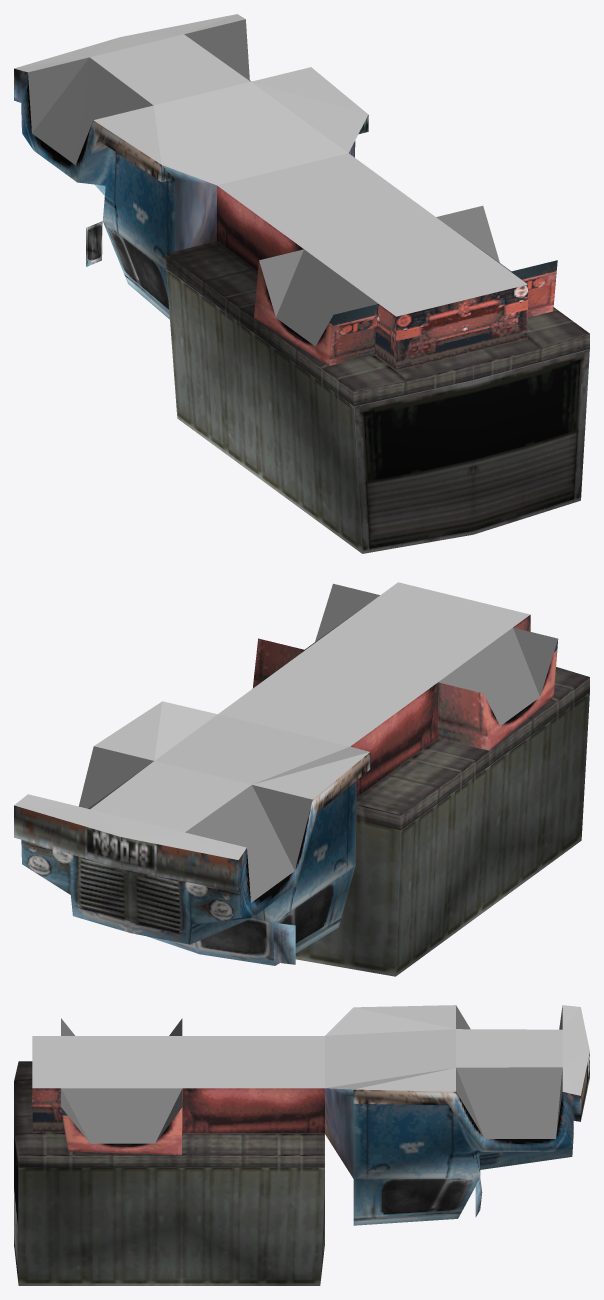
Rendered from HAVANA_model9_clean.obj.
3 renders of one model, top to bottom at view 1: azimuth 30°, elevation 25°; view 2: azimuth 150°, elevation 25°; view 3: azimuth 270°, elevation 25°, orthographic. The views are drawn at different scales.
Parts seen in each view (by area): view 1: HAVANA_model9_clean; view 2: HAVANA_model9_clean; view 3: HAVANA_model9_clean.
Boxes of the visible parts, x1=… form: HAVANA_model9_clean: x1=14, y1=14, x2=589, y2=553; HAVANA_model9_clean: x1=14, y1=582, x2=589, y2=976; HAVANA_model9_clean: x1=14, y1=1005, x2=589, y2=1285.
Size of the model in its own units: 340 by 334 by 882.
